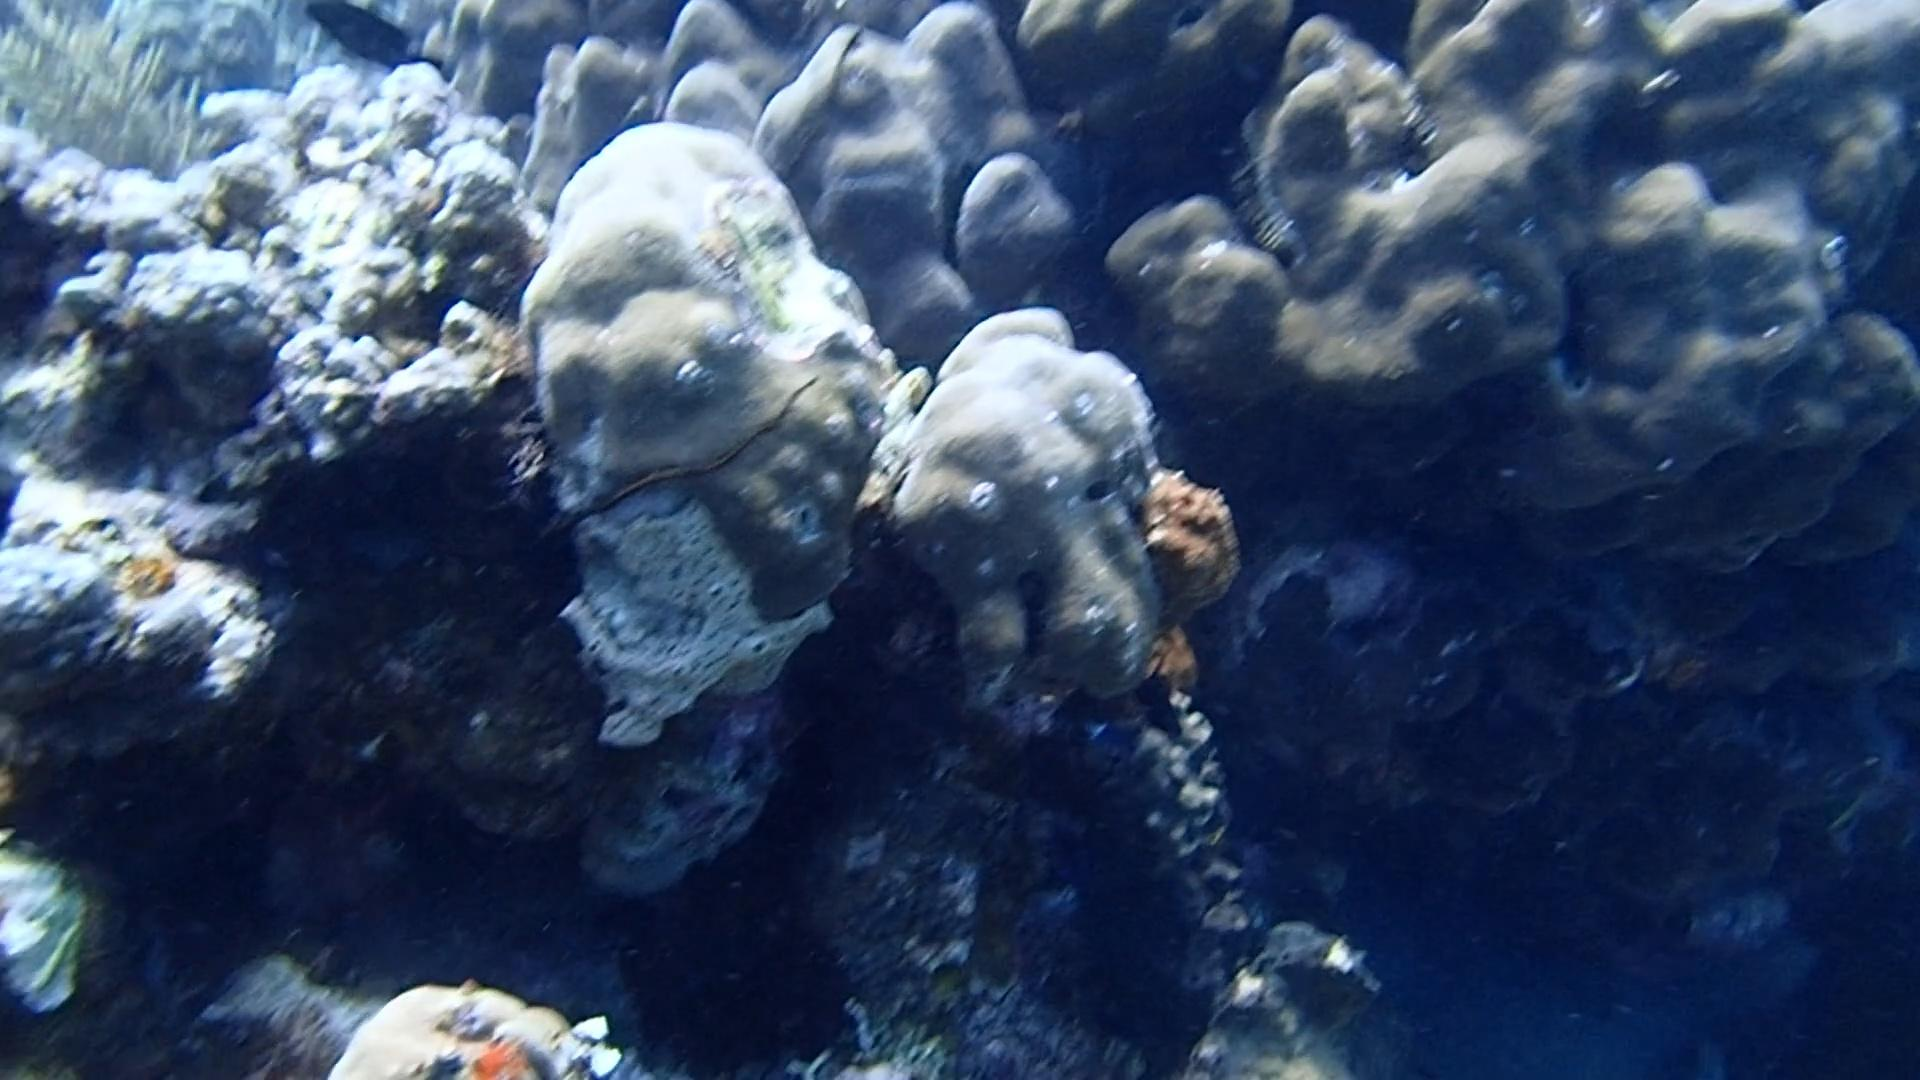Dark Fish: (286, 0, 448, 87), (1126, 671, 1200, 746)
